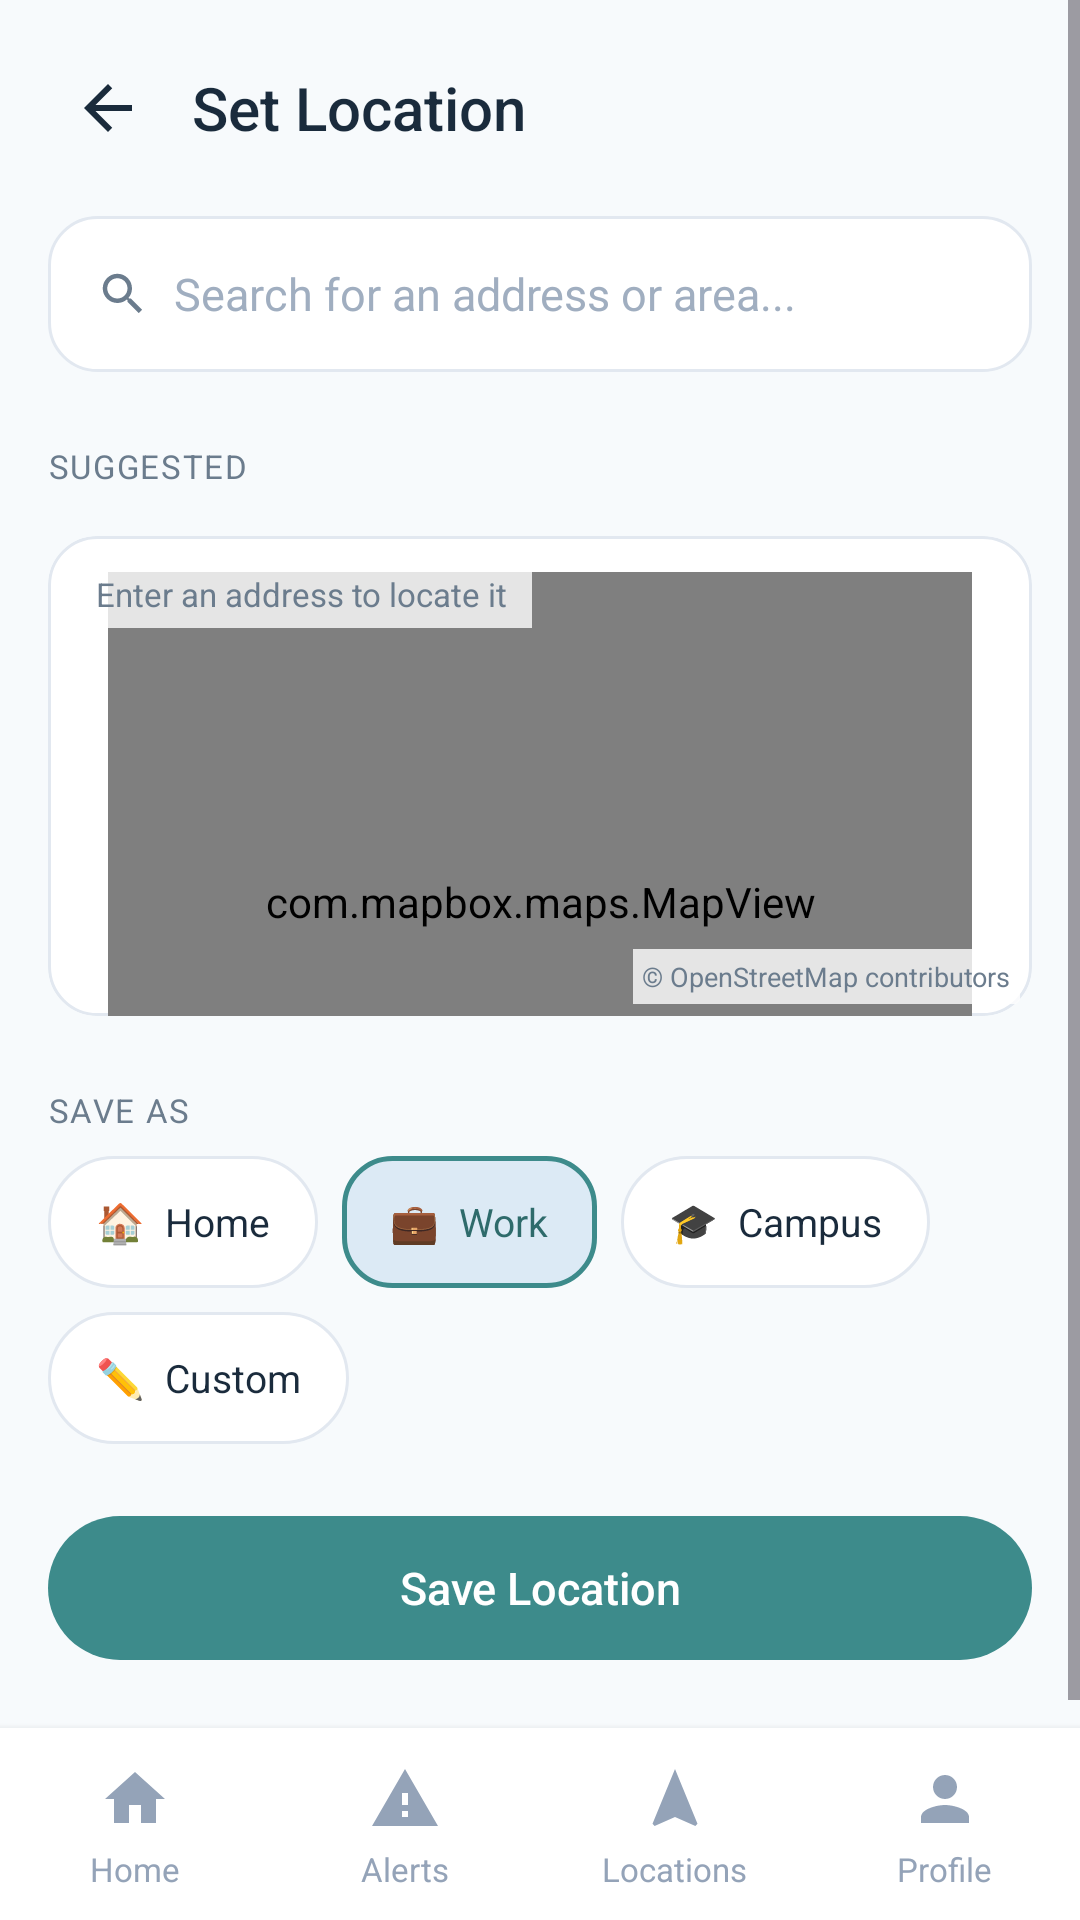

Locate icon controls on the screen. Image size 1080×1920, boxes as {"x1": x1, "y1": y1, "x2": x2, "y2": y2}.
arrow back: {"x1": 84, "y1": 84, "x2": 132, "y2": 132}
navigation: {"x1": 652, "y1": 1770, "x2": 698, "y2": 1826}
person: {"x1": 921, "y1": 1775, "x2": 969, "y2": 1823}
warning: {"x1": 372, "y1": 1769, "x2": 438, "y2": 1826}
